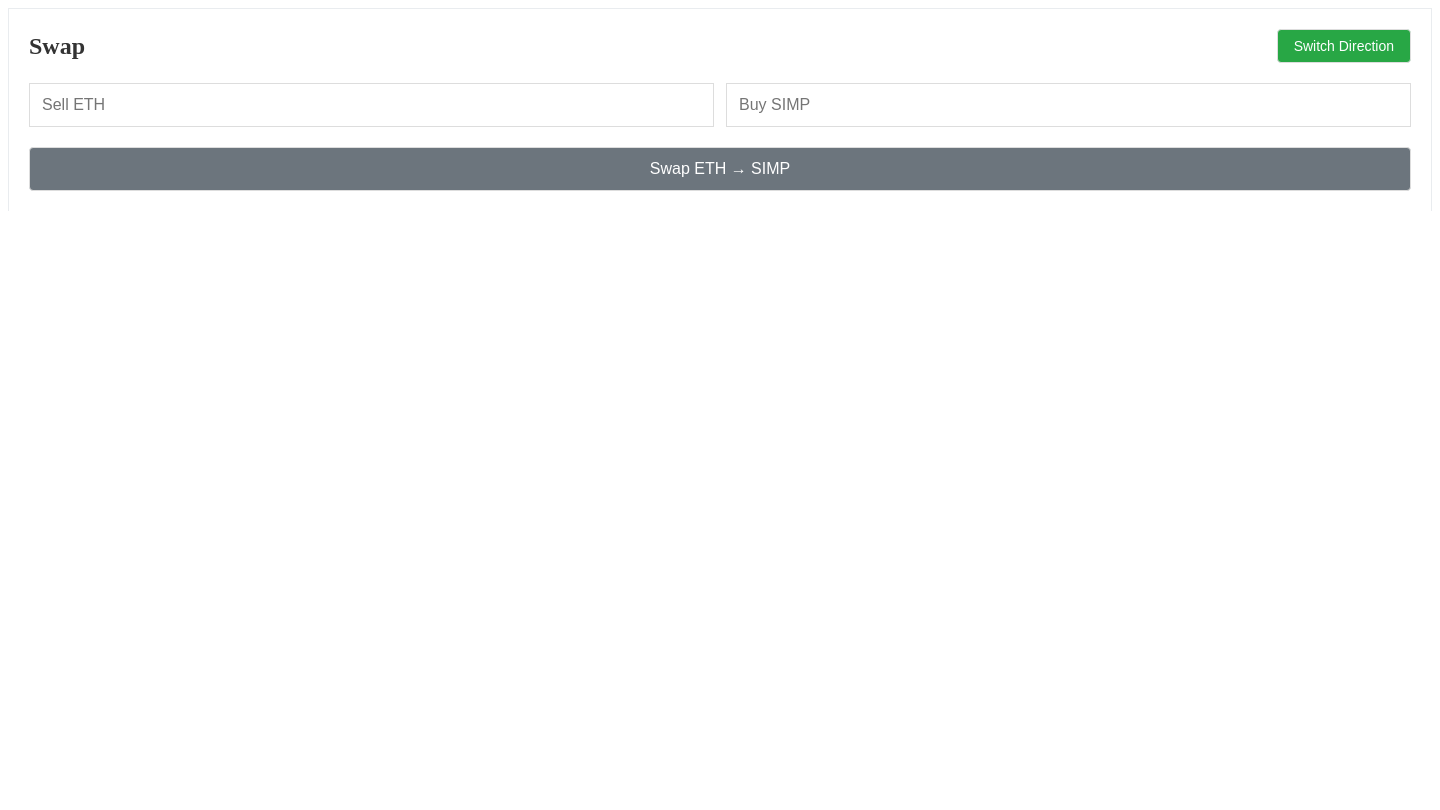
Test: Swap Component › Confirmation Dialog Integration › should show confirmation dialog before executing swap
Click the button "Switch Direction" at (1344,46), box [1277,29,1411,63]
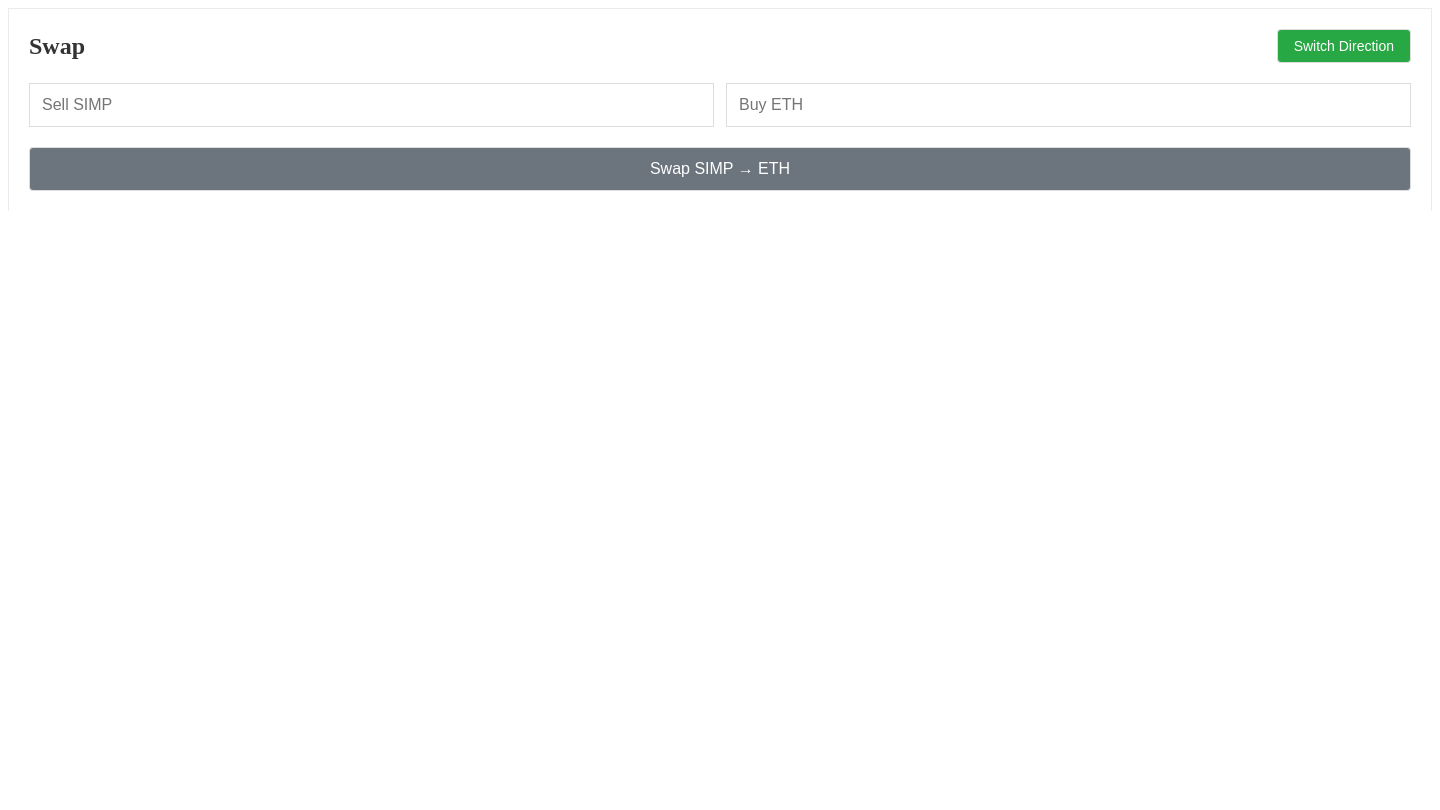
Type "1.0" into the number field with placeholder "Sell SIMP" at (372,105), box [29,83,714,127]
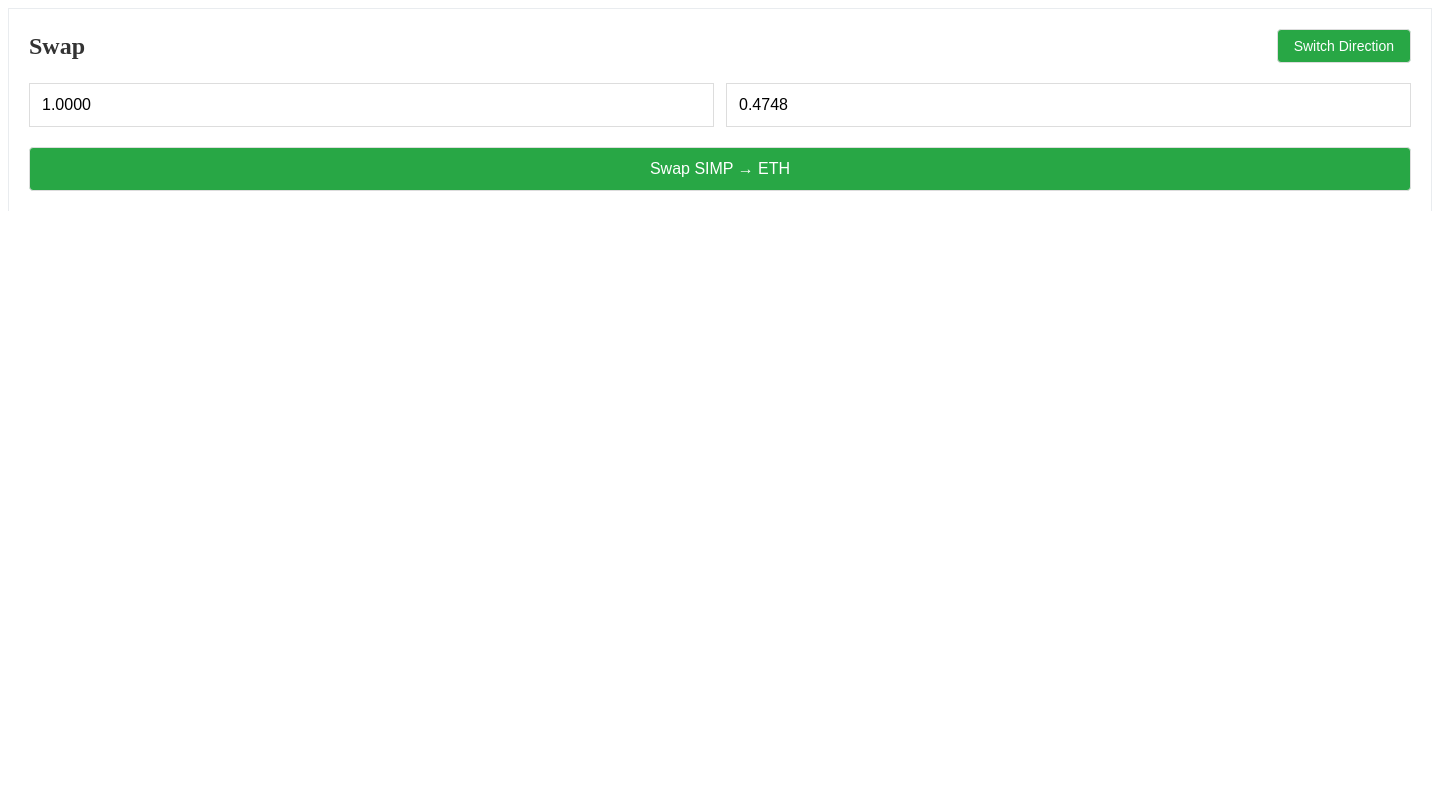
Click the button "Swap SIMP → ETH" at (720,169), box [29,147,1411,191]
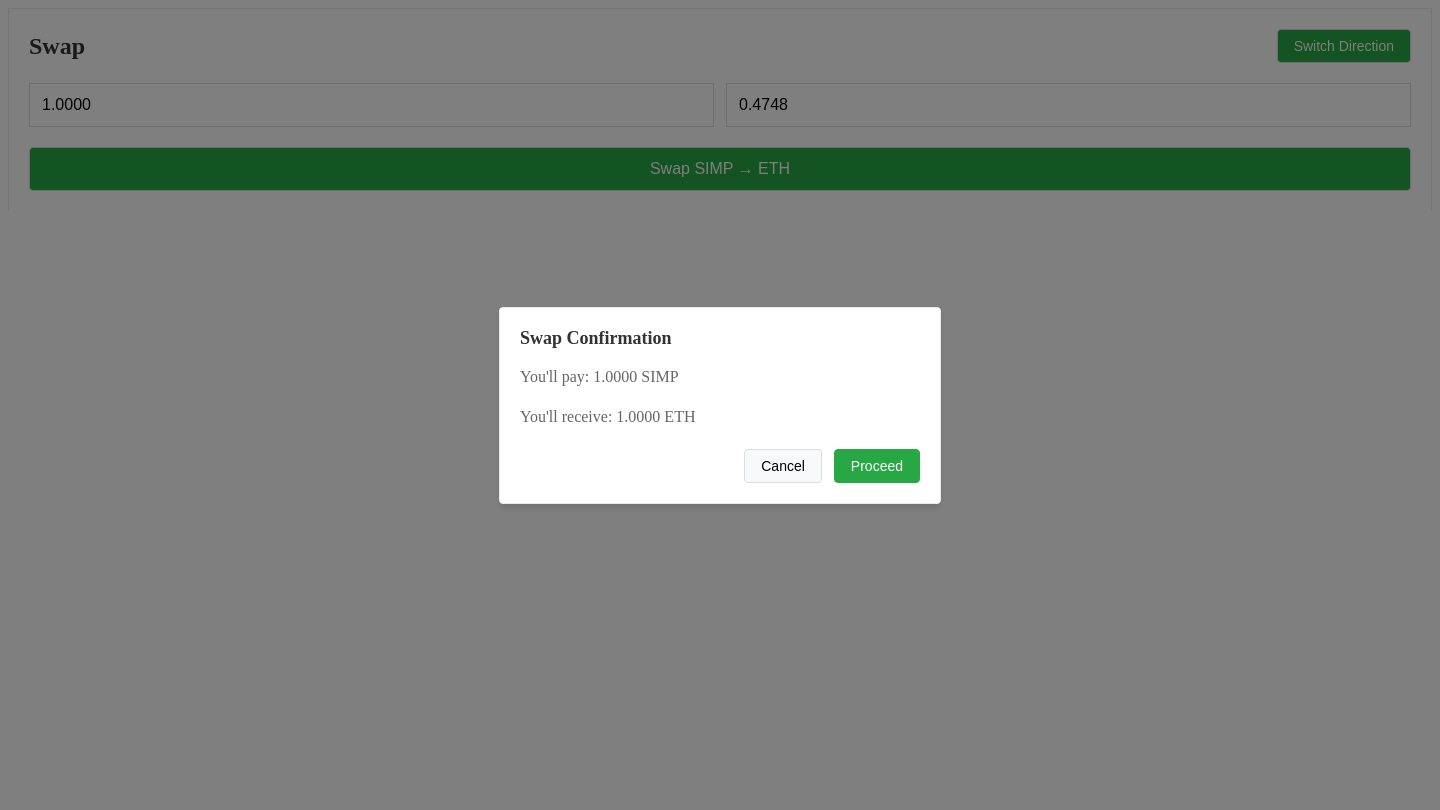
Now the heading "Swap Confirmation" is shown, box [520,328,672,348]
